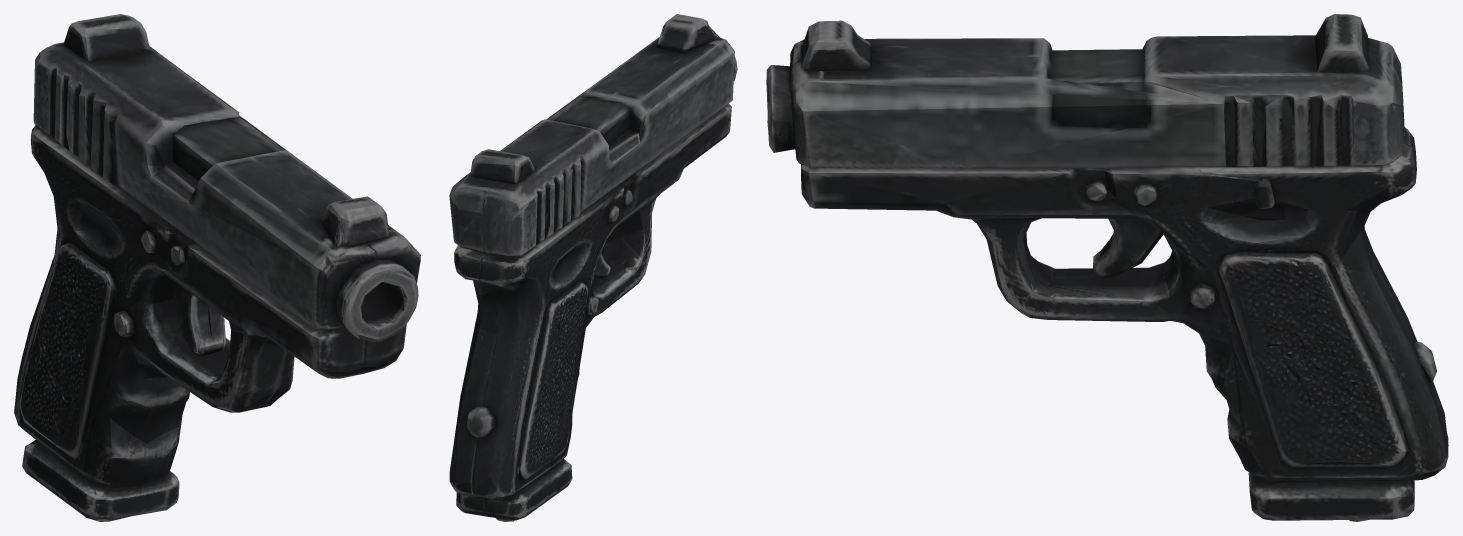
The model's file is gun_nine.glb.
The picture shows the model from 3 angles, left to right: view 1: azimuth 30°, elevation 25°; view 2: azimuth 150°, elevation 25°; view 3: azimuth 270°, elevation 25°; orthographic projection. The views are drawn at different scales.
Size of the model in its own units: 0.0405 by 0.1609 by 0.2.
1 material, 1 textured.
